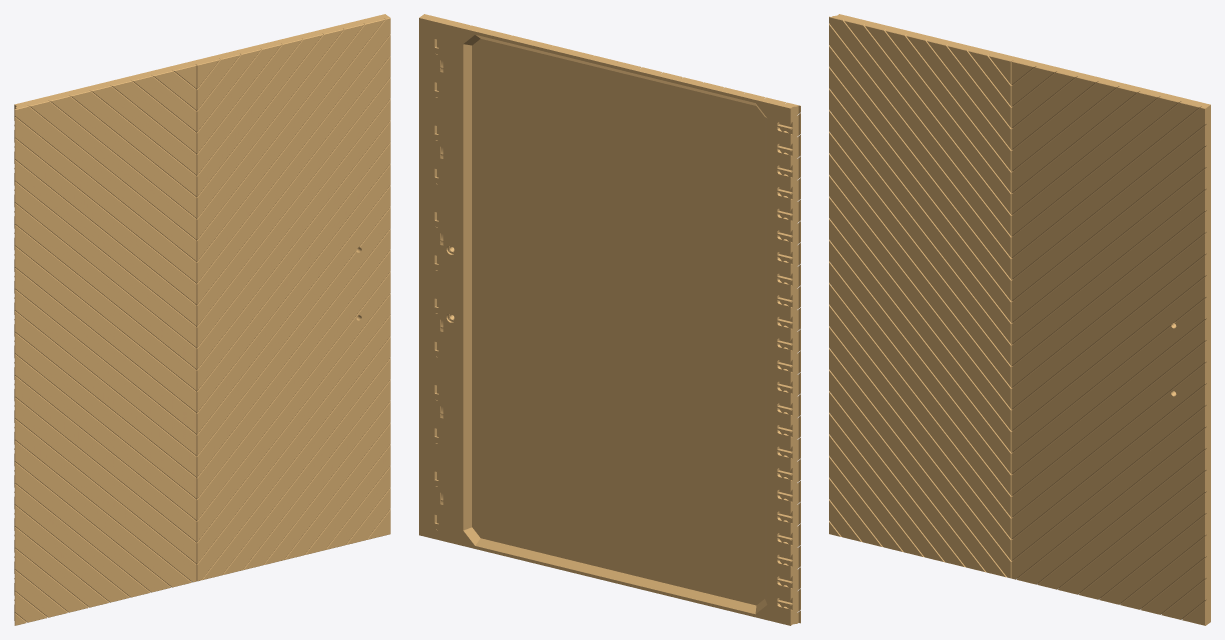
File: Door_Chevron_3W-6H.lib.glb
3 renders of one model, left to right at view 1: azimuth 30°, elevation 25°; view 2: azimuth 150°, elevation 25°; view 3: azimuth 330°, elevation 25°, orthographic.
Parts seen in each view (by area): view 1: Door_Chevron_3W-6H; view 2: Door_Chevron_3W-6H; view 3: Door_Chevron_3W-6H.
Part boxes in pixels (x1,y1,x2,y2): Door_Chevron_3W-6H: [14, 14, 390, 625]; Door_Chevron_3W-6H: [419, 14, 800, 625]; Door_Chevron_3W-6H: [829, 14, 1210, 625].
Bounding box in the file's own units: 255 × 335 × 6.5.
